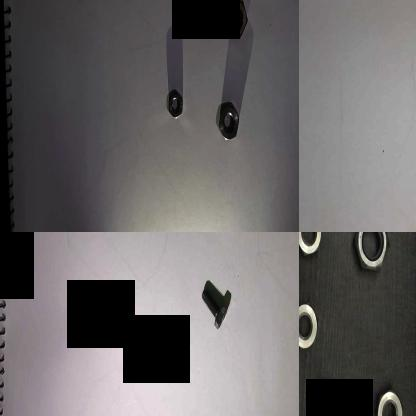Bolts: (197, 284, 227, 330)
NUTS: (349, 232, 391, 275), (371, 380, 407, 416), (221, 0, 247, 39), (299, 300, 318, 352), (310, 385, 341, 416), (218, 98, 240, 140), (299, 232, 326, 259), (164, 90, 184, 120)
